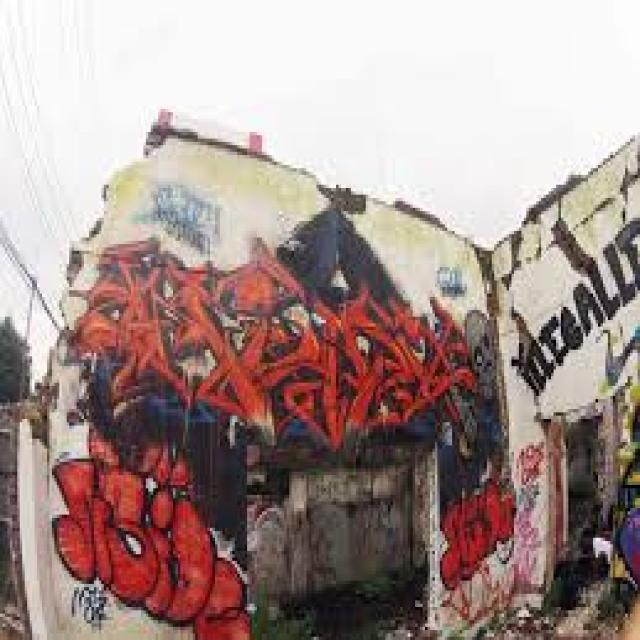-: (51, 205, 516, 634), (516, 219, 640, 396), (146, 180, 218, 252), (516, 441, 542, 594)
